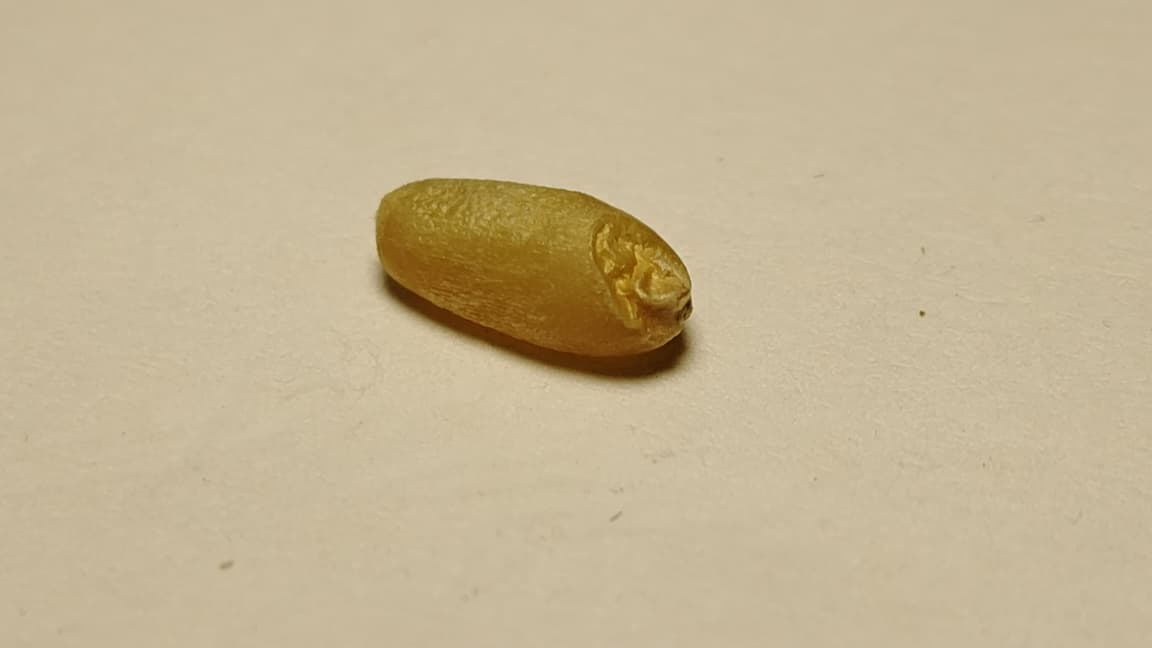healthy: (377, 178, 690, 355)
